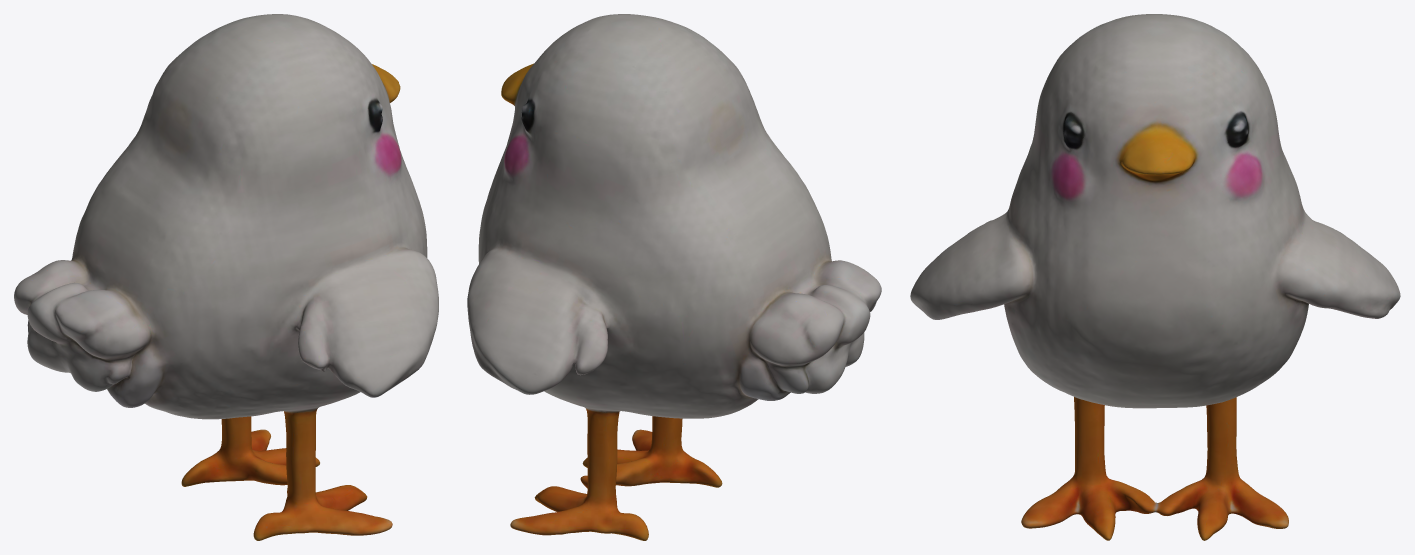
The model's file is tiger.glb.
3 renders of one model, left to right at view 1: azimuth 30°, elevation 25°; view 2: azimuth 150°, elevation 25°; view 3: azimuth 270°, elevation 25°, orthographic.
Parts seen in each view (by area): view 1: high_poly; view 2: high_poly; view 3: high_poly.
Boxes of the visible parts, x1,y1,x2,y2 form: high_poly: (14,14,438,540); high_poly: (467,14,881,540); high_poly: (910,14,1400,540).
Bounding box in the file's own units: 0.8096 × 1 × 0.9185.
Materials: 1 (1 with a texture image).
